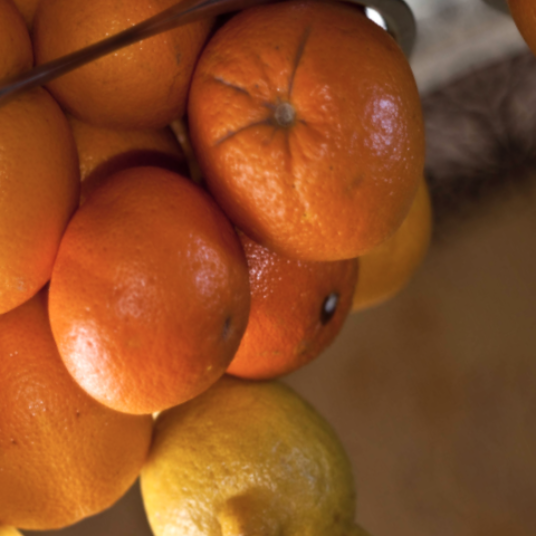orange: (0, 121, 328, 486), (137, 0, 486, 310)
